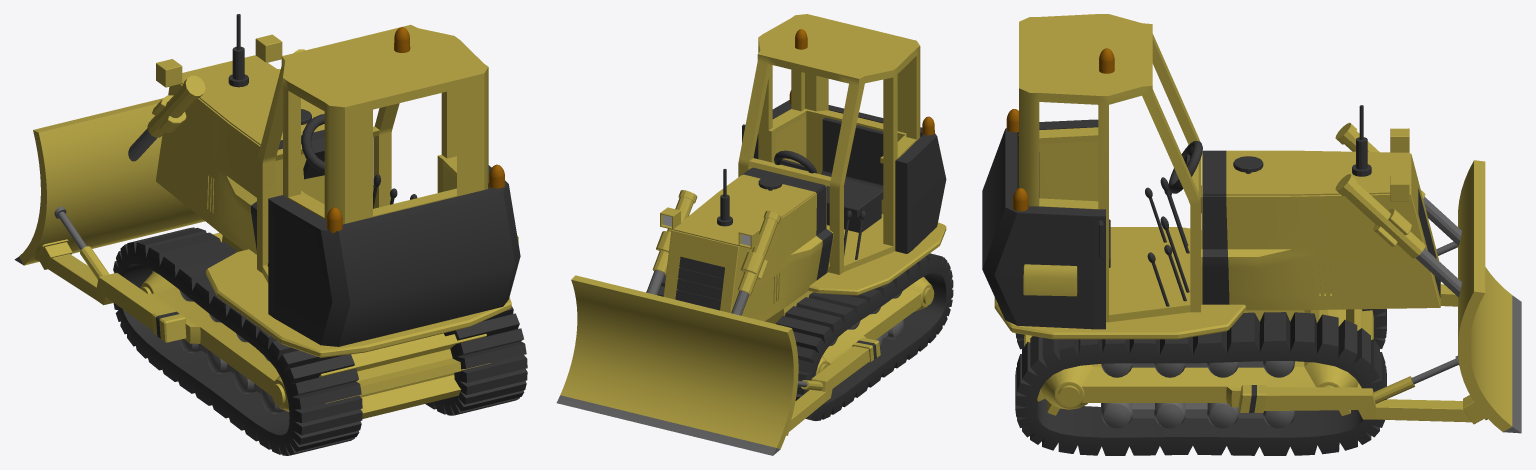
File: bulldozer.fbx
3 views of the same model, side by side, from view 1: azimuth 30°, elevation 25°; view 2: azimuth 150°, elevation 25°; view 3: azimuth 270°, elevation 25° (orthographic). The views are drawn at different scales.
Parts seen in each view (by area): view 1: back, pasted__cabine1, track1:pPipe2, ladle, front1, track_foundament, track:pPipe2, down_panel, pCube7, polySurface10, polySurface14, steering_wheel (+3 smaller); view 2: ladle, pasted__cabine1, front1, track1:pPipe2, back, sit, down_panel, track_foundament, pCube7, vent, polySurface14, polySurface11 (+3 smaller); view 3: front1, pasted__cabine1, track:pPipe2, back, ladle, track_foundament, pCube6, down_panel, polySurface8, polySurface7, polySurface11, side_stuff (+7 smaller).
Boxes of the visible parts, box(x1,y1,x2,y2) form: back: box(268, 165, 520, 346); pasted__cabine1: box(257, 24, 488, 282); track1:pPipe2: box(113, 227, 362, 455); ladle: box(14, 98, 204, 265); front1: box(156, 55, 469, 338); track_foundament: box(140, 232, 490, 418); track:pPipe2: box(425, 306, 527, 415); down_panel: box(206, 249, 511, 357); pCube7: box(34, 239, 186, 342); polySurface10: box(179, 339, 286, 413); polySurface14: box(147, 75, 205, 137); steering_wheel: box(301, 114, 324, 179); ladle: box(556, 275, 798, 455); pasted__cabine1: box(738, 14, 920, 274); front1: box(663, 167, 833, 321); track1:pPipe2: box(776, 253, 953, 420); back: box(753, 100, 946, 253); sit: box(821, 117, 883, 232); down_panel: box(808, 222, 946, 295); track_foundament: box(765, 277, 934, 374); pCube7: box(786, 337, 880, 435); vent: box(675, 256, 724, 310); polySurface14: box(737, 210, 781, 295); polySurface11: box(652, 190, 697, 275); front1: box(1201, 150, 1440, 310); pasted__cabine1: box(1019, 14, 1200, 322); track:pPipe2: box(1015, 312, 1386, 455); back: box(982, 119, 1105, 329); ladle: box(1458, 160, 1521, 433); track_foundament: box(1024, 259, 1373, 415); pCube6: box(1238, 385, 1487, 424); down_panel: box(994, 227, 1246, 339); polySurface8: box(1101, 403, 1294, 428); polySurface7: box(1101, 361, 1294, 377); polySurface11: box(1335, 174, 1425, 258); side_stuff: box(1023, 264, 1077, 296).
Size of the model in its own units: 16.13 by 21.12 by 27.93.
